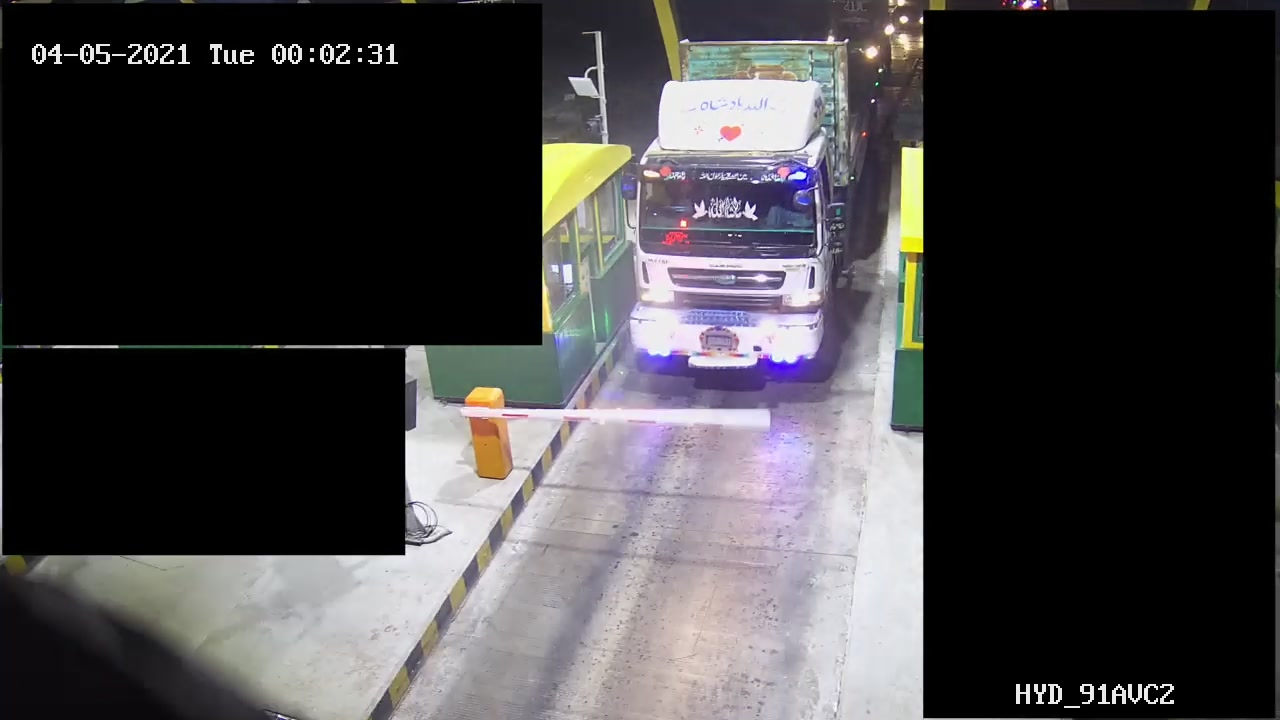F6: (627, 36, 868, 384)
